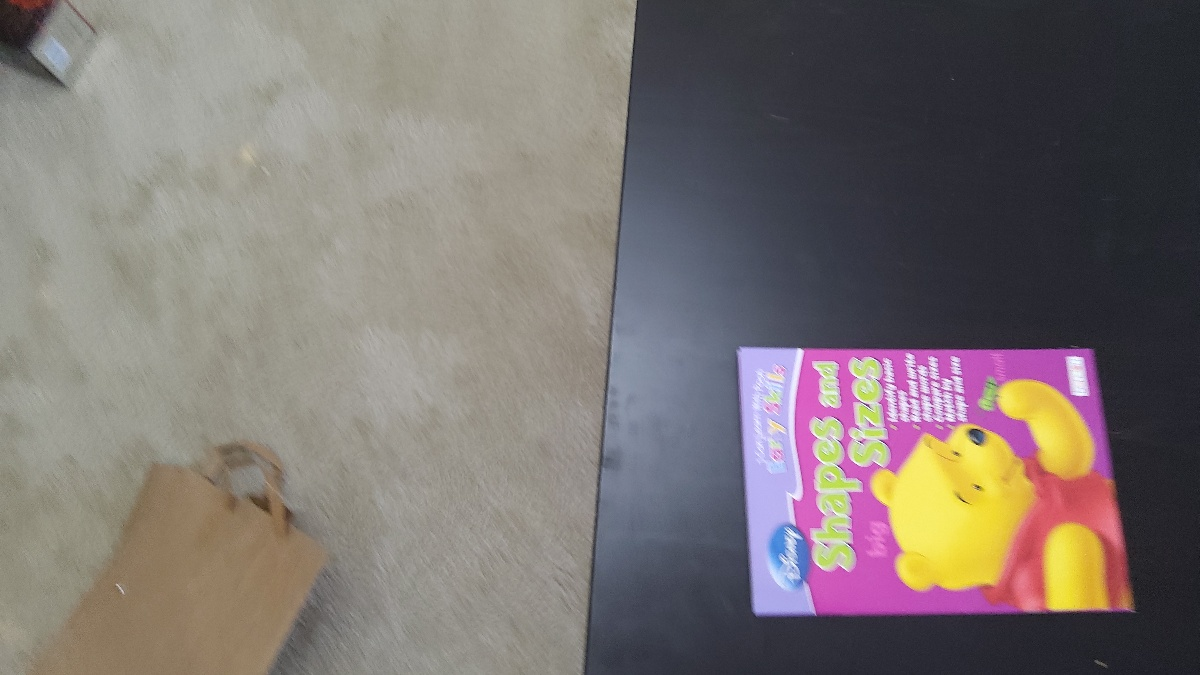book: (739, 347, 1128, 616)
